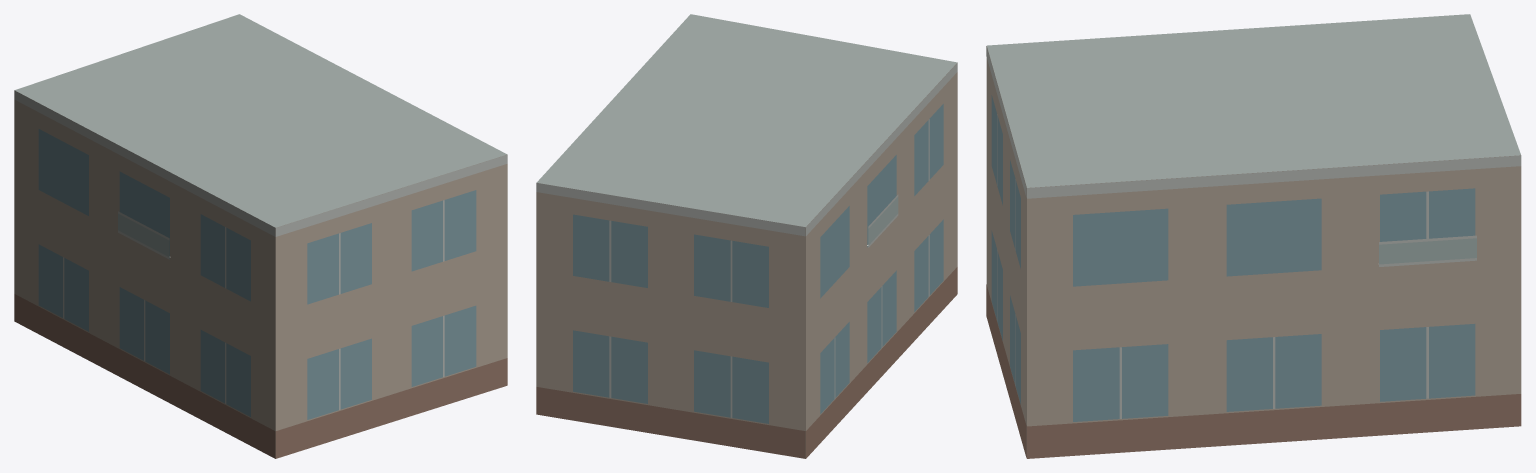
Rendered from survey-upis-32624711.glb.
3 views of the same model, side by side, from view 1: azimuth 30°, elevation 25°; view 2: azimuth 150°, elevation 25°; view 3: azimuth 270°, elevation 25° (orthographic). The views are drawn at different scales.
Parts seen in each view (by area): view 1: survey-upis-32624711.tmp; view 2: survey-upis-32624711.tmp; view 3: survey-upis-32624711.tmp.
Part boxes in pixels (bbox=[...]): survey-upis-32624711.tmp: bbox=[14, 14, 507, 458]; survey-upis-32624711.tmp: bbox=[536, 14, 957, 458]; survey-upis-32624711.tmp: bbox=[986, 14, 1521, 458].
Size of the model in its own units: 8.41 by 6.1 by 10.92.
